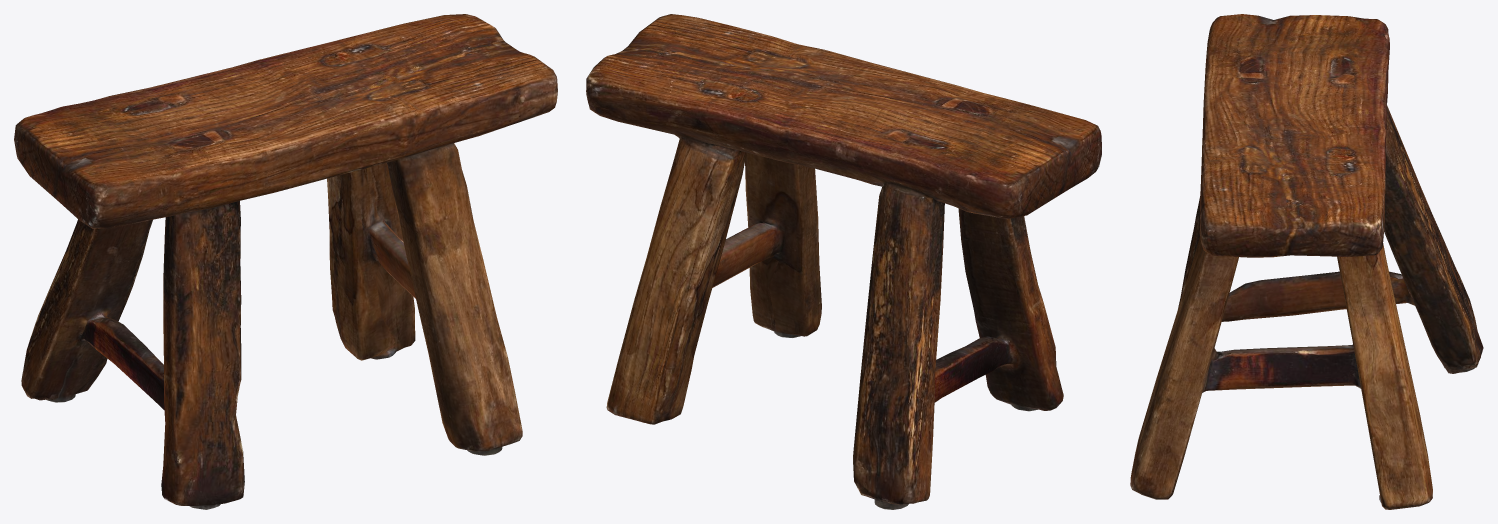
The model's file is wooden_stool_02.gltf.
3 renders of one model, left to right at view 1: azimuth 30°, elevation 25°; view 2: azimuth 150°, elevation 25°; view 3: azimuth 270°, elevation 25°, orthographic. The views are drawn at different scales.
Parts seen in each view (by area): view 1: wooden_stool_02__x; view 2: wooden_stool_02__x; view 3: wooden_stool_02__x.
Part boxes in pixels (left/top/right/bottom): wooden_stool_02__x: left=14, top=14, right=557, bottom=509; wooden_stool_02__x: left=586, top=14, right=1101, bottom=509; wooden_stool_02__x: left=1130, top=14, right=1483, bottom=509.
Bounding box in the file's own units: 0.2653 × 0.182 × 0.1833.
1 material, 1 textured.
